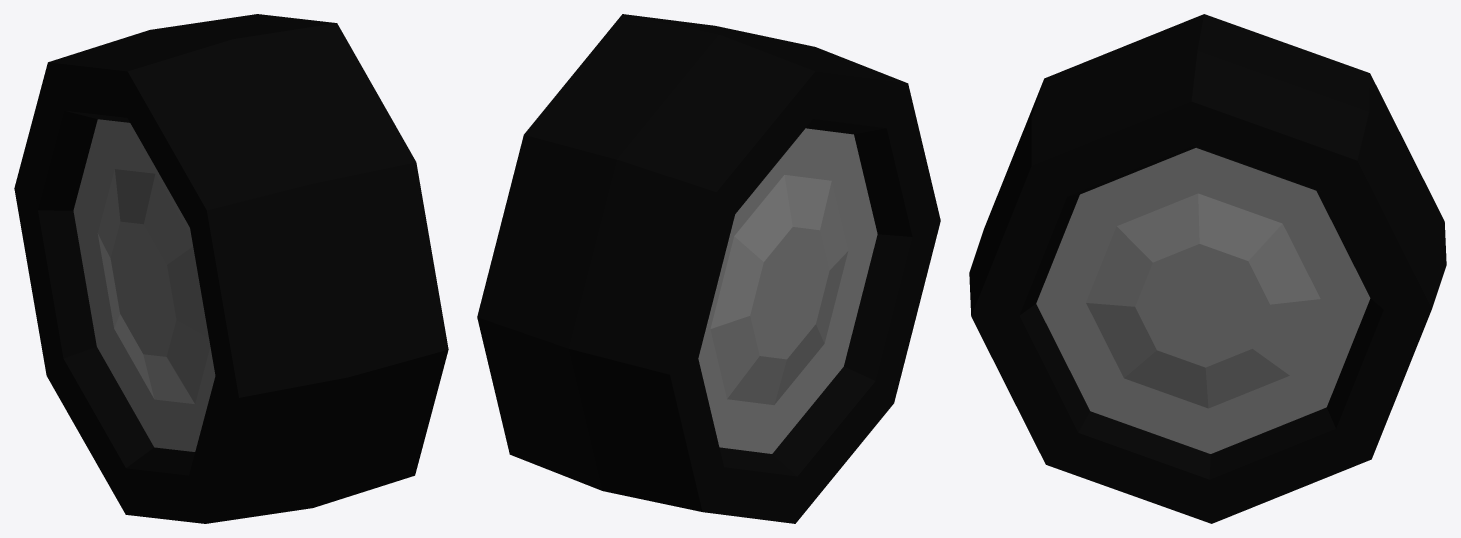
Rendered from llanta.obj.
The picture shows the model from 3 angles, left to right: view 1: azimuth 30°, elevation 25°; view 2: azimuth 150°, elevation 25°; view 3: azimuth 270°, elevation 25°; orthographic projection. The views are drawn at different scales.
Visible parts, largest first — view 1: Cylinder.001; view 2: Cylinder.001; view 3: Cylinder.001.
Boxes of the visible parts, x1,y1,x2,y2 form: Cylinder.001: (14,14,448,523); Cylinder.001: (477,14,940,523); Cylinder.001: (969,14,1446,523).
Size of the model in its own units: 0.5154 by 1.02 by 1.01.
